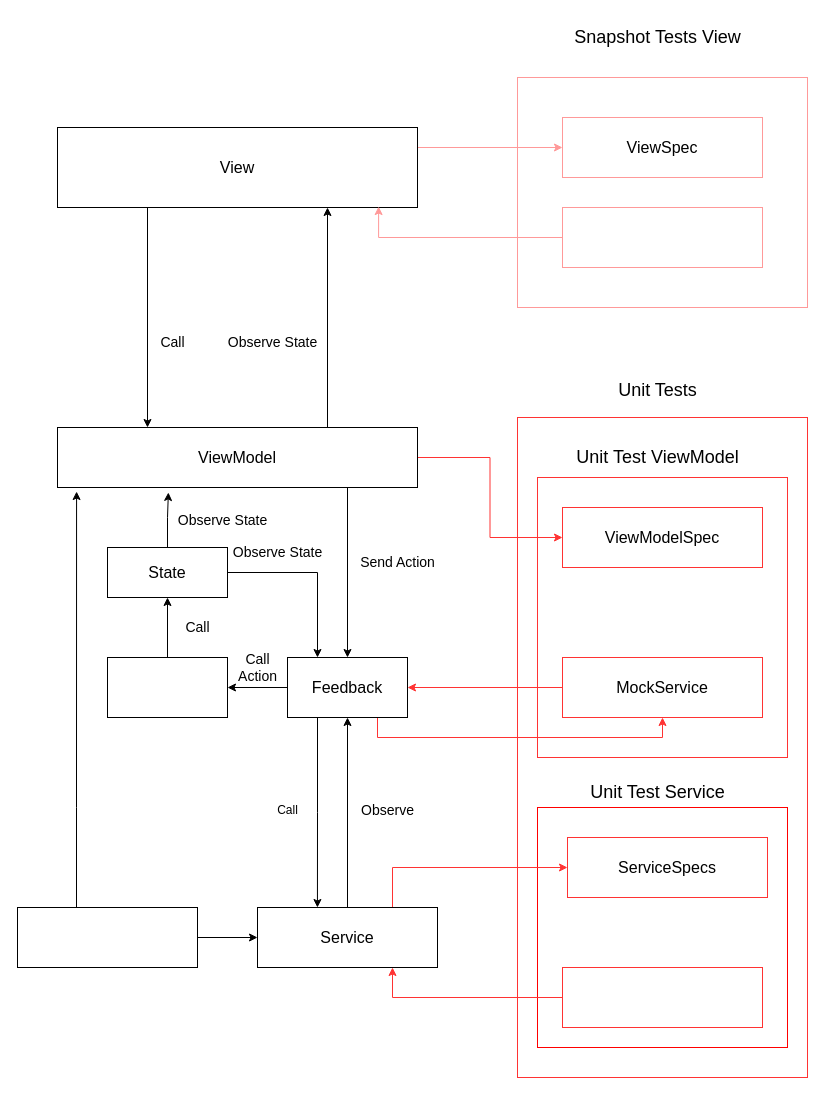
The diagram is 825 pixels wide and 1103 high, and some of its shapes have lost their labels. The shapes that lost their labels are listed below. From the top down, each one's centre as x and y in pixels, then its label:
At (662,237): "MockViewModel".
At (167,687): "Reduce".
At (107,937): "Model".
At (662,997): "MockNetworkRequest".
